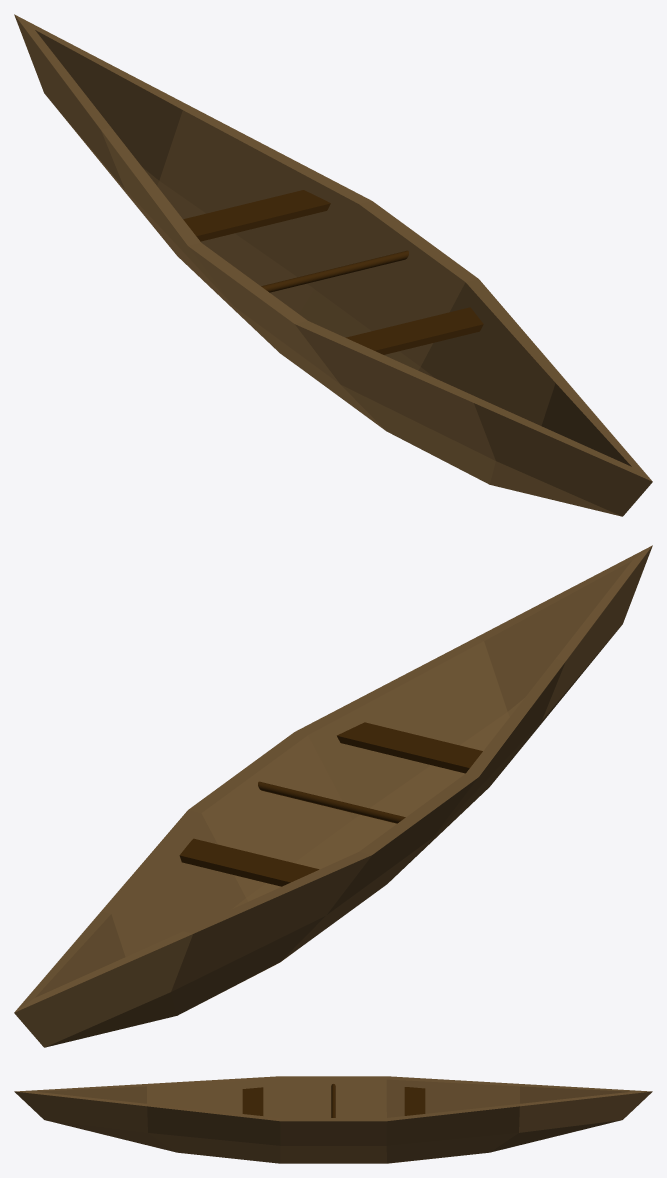
The model's file is Canoe.fbx.
3 renders of one model, top to bottom at view 1: azimuth 30°, elevation 25°; view 2: azimuth 150°, elevation 25°; view 3: azimuth 270°, elevation 25°, orthographic. The views are drawn at different scales.
Parts seen in each view (by area): view 1: Cube, Cube.001, Cube.002, Cube.003; view 2: Cube, Cube.002, Cube.001, Cube.003; view 3: Cube, Cube.001, Cube.002, Cube.003.
Boxes of the visible parts, bbox=[...] form: Cube: bbox=[14, 14, 652, 516]; Cube.001: bbox=[183, 190, 330, 241]; Cube.002: bbox=[346, 307, 483, 354]; Cube.003: bbox=[261, 250, 408, 292]; Cube: bbox=[14, 545, 652, 1047]; Cube.002: bbox=[337, 722, 482, 773]; Cube.001: bbox=[179, 838, 319, 886]; Cube.003: bbox=[258, 781, 405, 823]; Cube: bbox=[14, 1076, 652, 1163]; Cube.001: bbox=[404, 1087, 425, 1115]; Cube.002: bbox=[242, 1087, 263, 1115]; Cube.003: bbox=[331, 1084, 335, 1117].
Bounding box in the file's own units: 185 × 138 × 1109.
